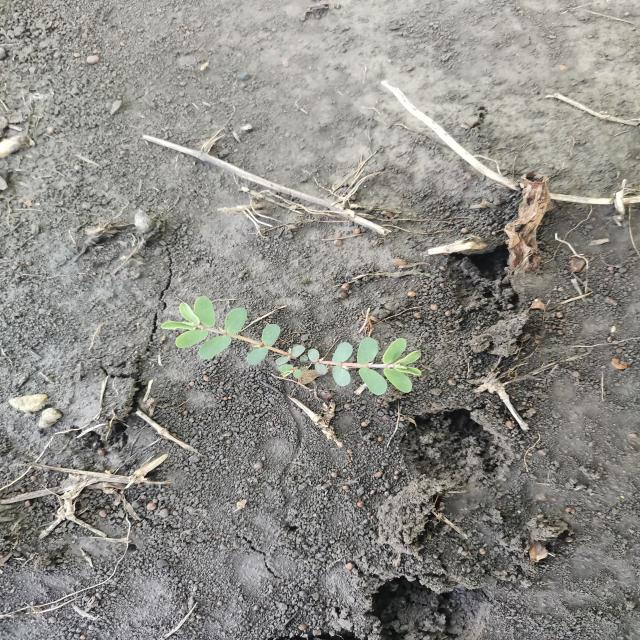SpottedSpurge: (156, 294, 427, 398)
